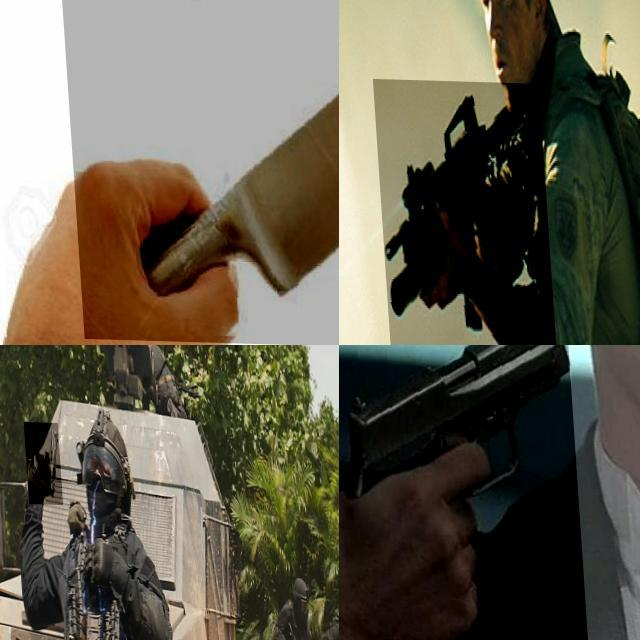-: (55, 0, 339, 345)
gun-knife-thesis - v11 Yolov5 augmented: (339, 345, 580, 640), (369, 77, 549, 345), (20, 421, 58, 504)
